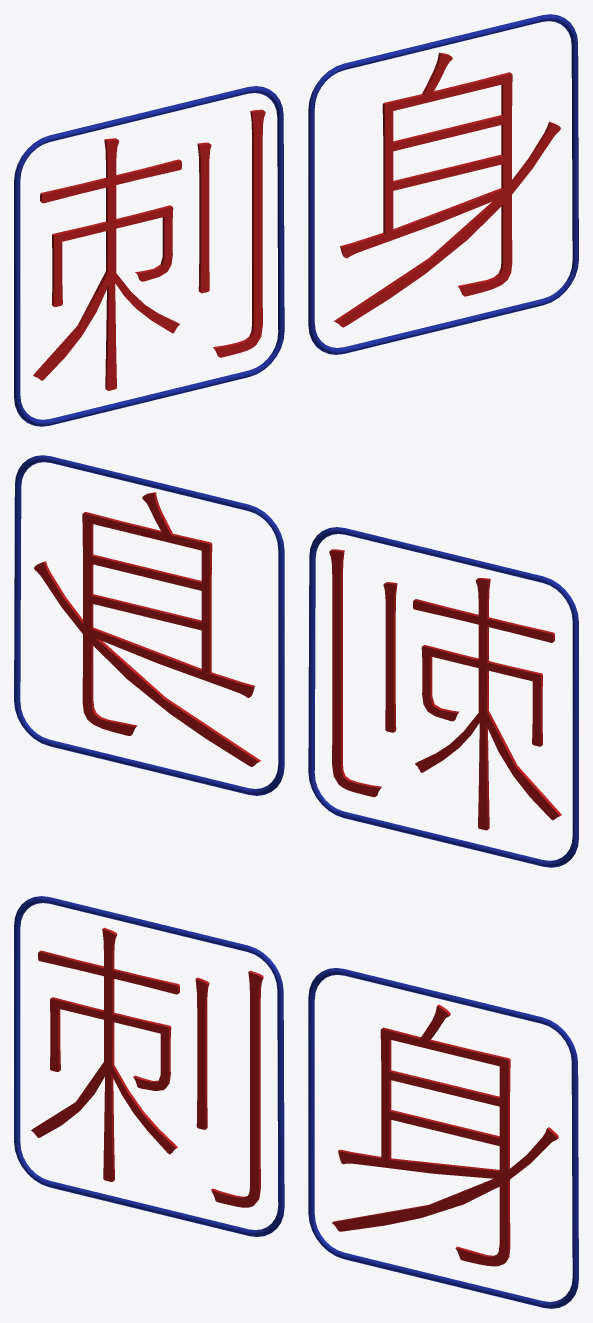
The model's file is SM_neonsign_sashimi.fbx.
The picture shows the model from 3 angles, top to bottom: view 1: azimuth 30°, elevation 25°; view 2: azimuth 150°, elevation 25°; view 3: azimuth 330°, elevation 25°; orthographic projection.
Visible parts, largest first — view 1: Line222; view 2: Line222; view 3: Line222.
Part boxes in pixels (<box>): Line222: <box>14,14,578,426</box>; Line222: <box>14,455,578,867</box>; Line222: <box>14,896,578,1308</box>.
Bounding box in the file's own units: 61.91 × 30.4 × 0.7282.
